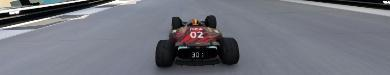Car: (154, 14, 239, 67)
obstacles-Borders: (0, 0, 116, 26)
